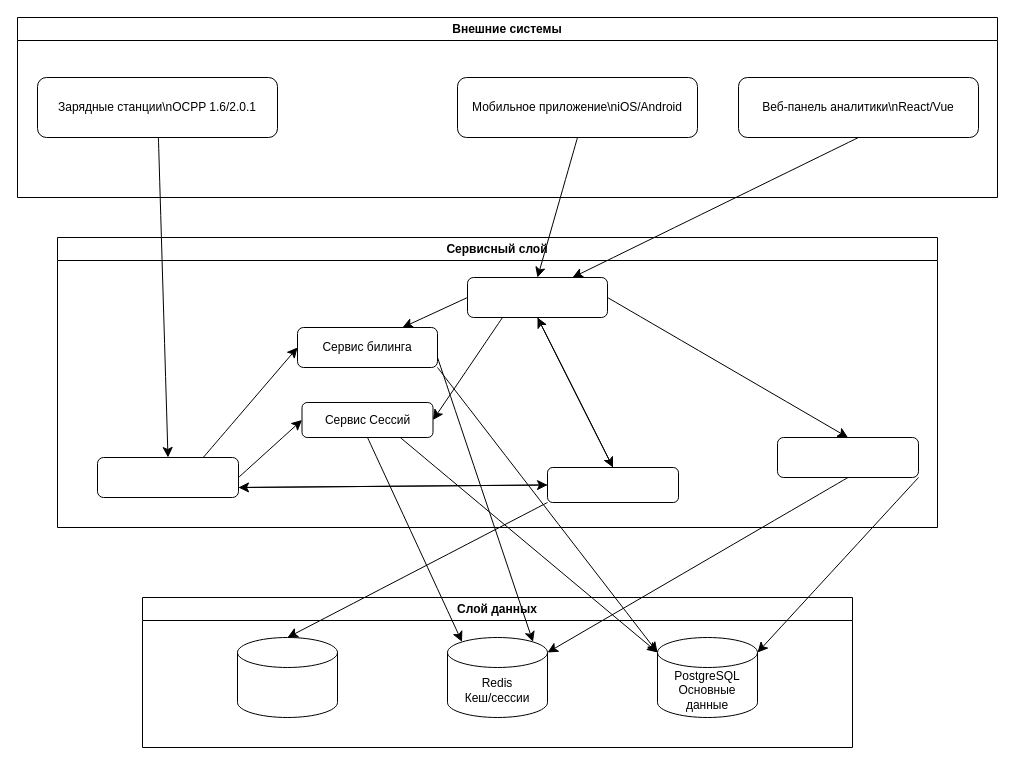
This 1015x765 diagram has some shape labels left out. The shapes that lost their labels are listed below. From the top down, each one's centre as x and y in pixels, then its label:
At [537,297]: "API Gateway".
At [167,477]: "OCPP CSMS Сервер Websocket".
At [847,457]: "Сервис аутентификации JWT".
At [612,484]: "Сервис телеметрии".
At [287,677]: "S3 Файлы/логи".
